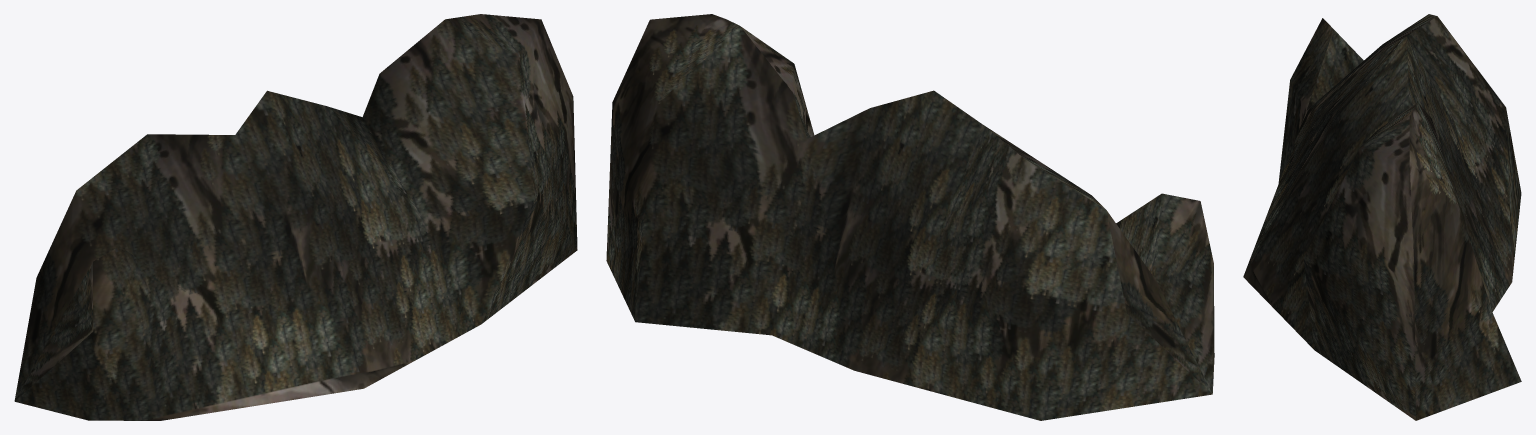
Rendered from PRP_HillBackground03.FBX.
The picture shows the model from 3 angles, left to right: view 1: azimuth 30°, elevation 25°; view 2: azimuth 150°, elevation 25°; view 3: azimuth 270°, elevation 25°; orthographic projection. The views are drawn at different scales.
Parts seen in each view (by area): view 1: PRP_HillBackground03; view 2: PRP_HillBackground03; view 3: PRP_HillBackground03.
Boxes of the visible parts, x1,y1,x2,y2 form: PRP_HillBackground03: (14,14,577,420); PRP_HillBackground03: (606,14,1214,420); PRP_HillBackground03: (1243,14,1521,420).
Size of the model in its own units: 2999 by 1306 by 1284.
1 material, 1 textured.
